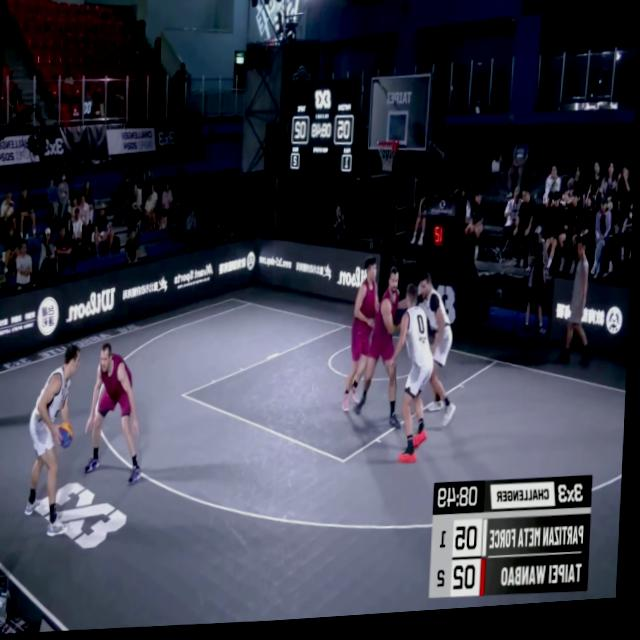ball: (60, 422, 77, 450)
hoop: (376, 144, 399, 178)
player: (355, 266, 420, 439), (28, 346, 82, 538), (391, 284, 442, 472), (89, 343, 147, 489), (411, 272, 461, 438), (346, 259, 382, 418)
